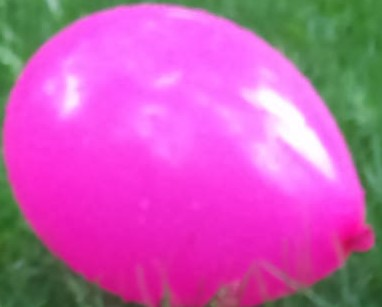Balloon: (4, 4, 366, 306)
